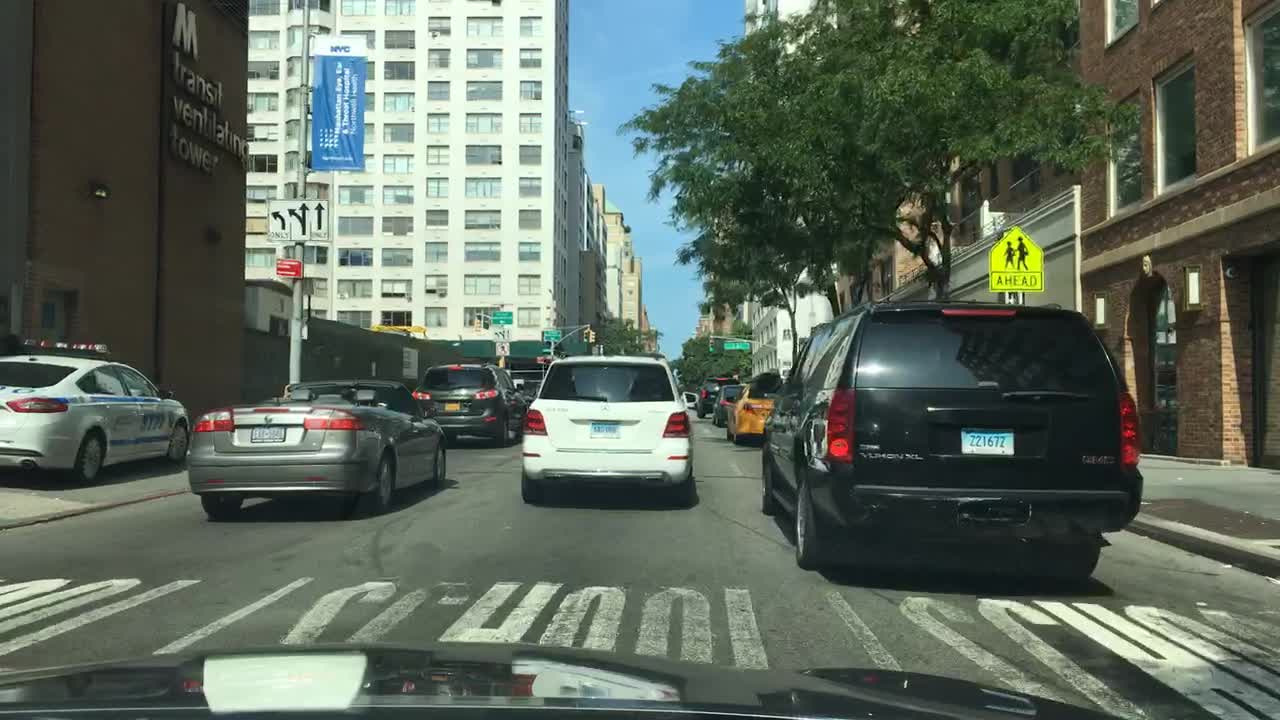car: (762, 296, 1143, 592), (186, 375, 448, 515), (0, 338, 191, 486), (517, 352, 696, 508), (410, 362, 528, 443), (722, 373, 793, 448), (695, 373, 739, 417), (708, 382, 750, 428), (722, 341, 750, 350)
traffic light: (705, 330, 718, 350), (474, 310, 483, 335), (584, 329, 597, 344)
traffic sign: (984, 229, 1044, 293), (266, 198, 329, 241), (275, 257, 300, 278), (542, 327, 563, 342), (493, 330, 505, 356), (490, 310, 509, 326)
